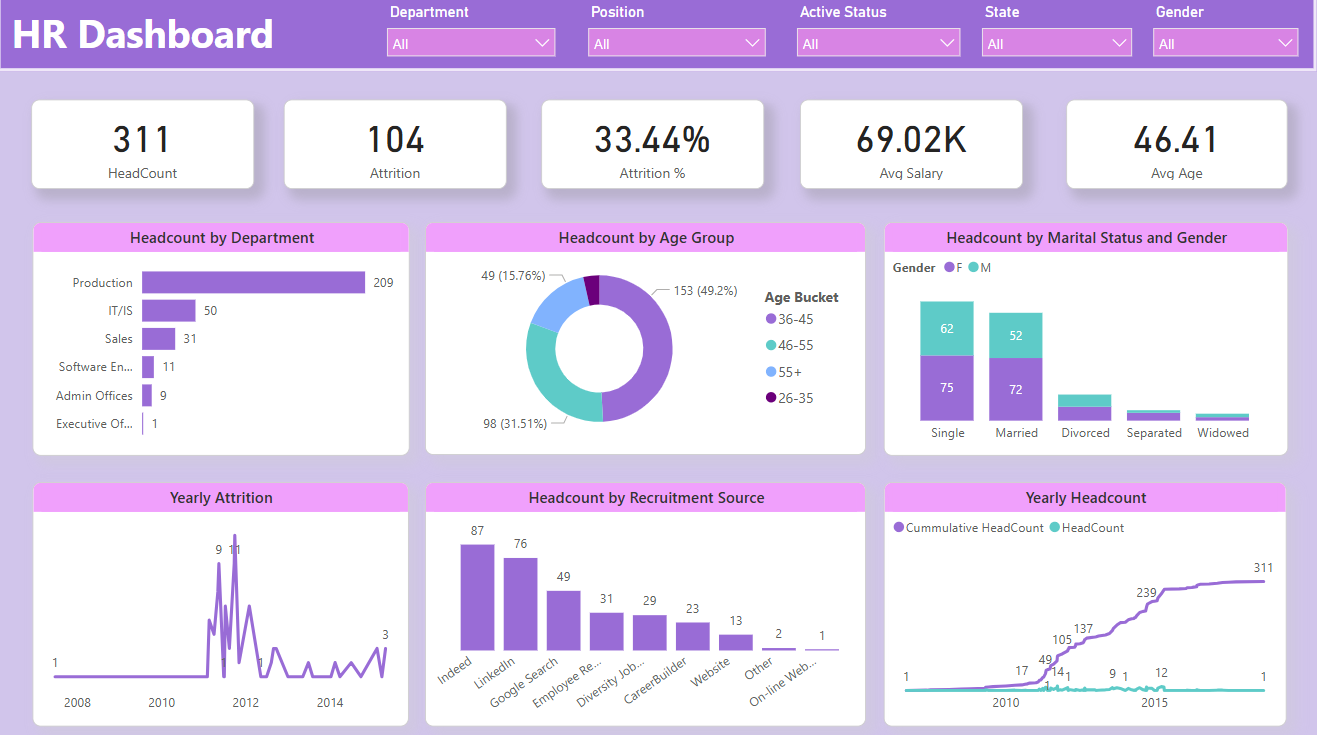

This screenshot's page, from the dashboard's own definition file:
{"tool":"powerbi","page":{"name":"Page 1","canvas":[1280,720],"ordinal":0},"visuals":[{"type":"shape","box":[2.5,0,1274.1,76.5],"z":0},{"type":"card","fields":{"Values":["Measure .HeadCount"]},"box":[34.6,103.7,214.8,86.4],"z":1000},{"type":"card","fields":{"Values":["Measure .Attrition"]},"box":[279,103.7,214.8,86.4],"z":2000},{"type":"card","fields":{"Values":["Measure .Attrition %"]},"box":[527.2,103.7,214.8,86.4],"z":3000},{"type":"card","fields":{"Values":["Measure .Avg Salary"]},"box":[776.5,103.7,214.8,86.4],"z":4000},{"type":"card","fields":{"Values":["Measure .Avg Age"]},"box":[1033.3,103.7,213.6,86.4],"z":5000},{"type":"clusteredBarChart","title":"Headcount by Department","fields":{"Y":["Measure .HeadCount"],"Category":["HR Dataset.Department"]},"box":[35.8,222.2,364.2,225.9],"z":6000},{"type":"donutChart","title":"Headcount by Age Group","fields":{"Category":["HR Dataset.Age Bucket"],"Y":["Measure .HeadCount"]},"box":[414.8,222.2,425.9,224.7],"z":7000},{"type":"columnChart","title":"Headcount by Marital Status and Gender","fields":{"Category":["HR Dataset.MaritalDesc"],"Y":["Measure .HeadCount"],"Series":["HR Dataset.Gender"]},"box":[858,222.2,390.1,225.9],"z":8000},{"type":"lineChart","title":"Yearly Headcount ","fields":{"Category":["HR Dataset.DateofHire"],"Y":["Measure .Cummulative HeadCount","Measure .HeadCount"]},"box":[858,472.8,388.9,235.8],"z":9000},{"type":"lineChart","title":"Yearly Attrition ","fields":{"Category":["HR Dataset.DateofHire"],"Y":["Measure .Attrition"]},"box":[35.8,472.8,363,235.8],"z":10000},{"type":"columnChart","title":"Headcount by Recruitment Source","fields":{"Y":["Measure .HeadCount"],"Category":["HR Dataset.RecruitmentSource"]},"box":[414.8,472.8,425.9,235.8],"z":11000},{"type":"slicer","fields":{"Values":["HR Dataset.Department"]},"box":[367.9,6.2,182.7,58],"z":12000},{"type":"slicer","fields":{"Values":["HR Dataset.Position"]},"box":[561.7,6.2,191.4,66.7],"z":13000},{"type":"slicer","fields":{"Values":["HR Dataset.EmploymentStatus"]},"box":[764.2,6.2,177.8,66.7],"z":14000},{"type":"slicer","fields":{"Values":["HR Dataset.State"]},"box":[942,6.2,165.4,66.7],"z":15000},{"type":"slicer","fields":{"Values":["HR Dataset.Gender"]},"box":[1107.4,6.2,160.5,65.4],"z":16000},{"type":"textbox","box":[11.1,9.9,356.8,65.4],"z":17000}]}

Visuals, with their boxes in screenshot pixels (x1, y1, x2, y2), scaled from the page's 1280x720 canvas onto the 1317x735 screenshot:
shape: l=3, t=0, r=1314, b=78
card - Measure .HeadCount: l=36, t=106, r=257, b=194
card - Measure .Attrition: l=287, t=106, r=508, b=194
card - Measure .Attrition %: l=542, t=106, r=763, b=194
card - Measure .Avg Salary: l=799, t=106, r=1020, b=194
card - Measure .Avg Age: l=1063, t=106, r=1283, b=194
"Headcount by Department" clusteredBarChart: l=37, t=227, r=412, b=457
"Headcount by Age Group" donutChart: l=427, t=227, r=865, b=456
"Headcount by Marital Status and Gender" columnChart: l=883, t=227, r=1284, b=457
"Yearly Headcount " lineChart: l=883, t=483, r=1283, b=723
"Yearly Attrition " lineChart: l=37, t=483, r=410, b=723
"Headcount by Recruitment Source" columnChart: l=427, t=483, r=865, b=723
slicer - HR Dataset.Department: l=379, t=6, r=567, b=66
slicer - HR Dataset.Position: l=578, t=6, r=775, b=74
slicer - HR Dataset.EmploymentStatus: l=786, t=6, r=969, b=74
slicer - HR Dataset.State: l=969, t=6, r=1139, b=74
slicer - HR Dataset.Gender: l=1139, t=6, r=1305, b=73
textbox: l=11, t=10, r=379, b=77
